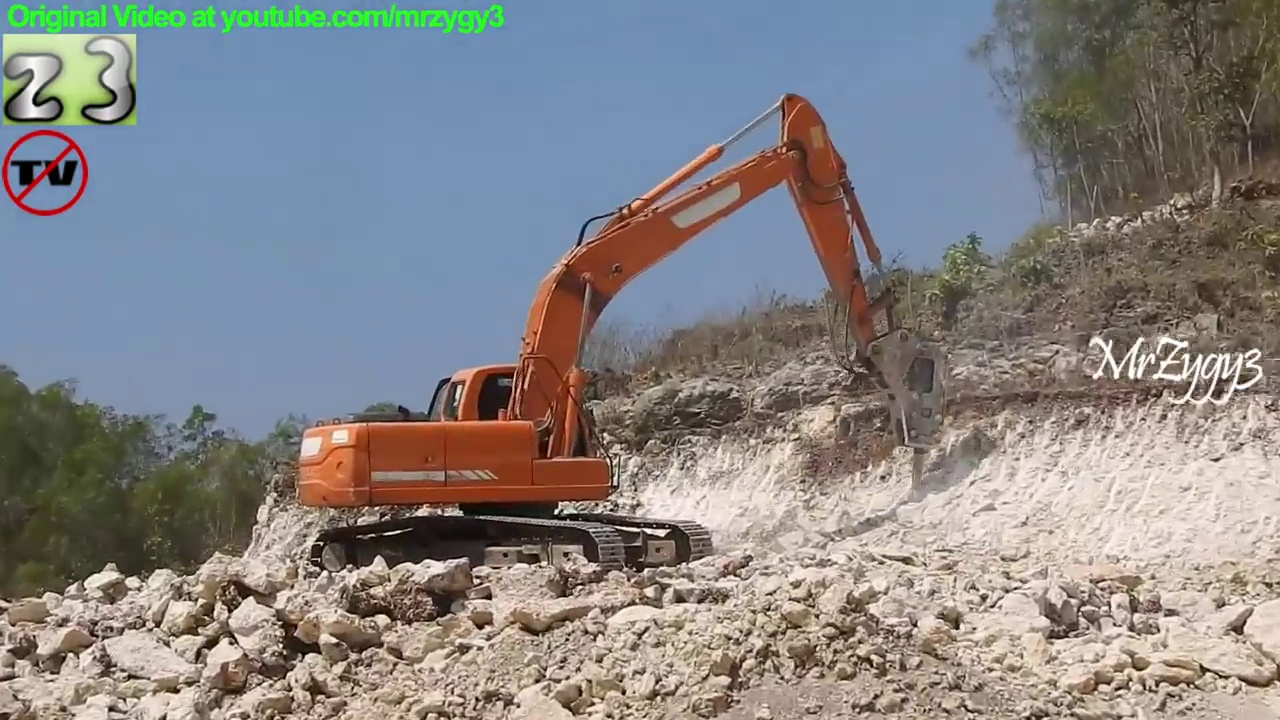excavator breaker: (292, 89, 950, 588)
